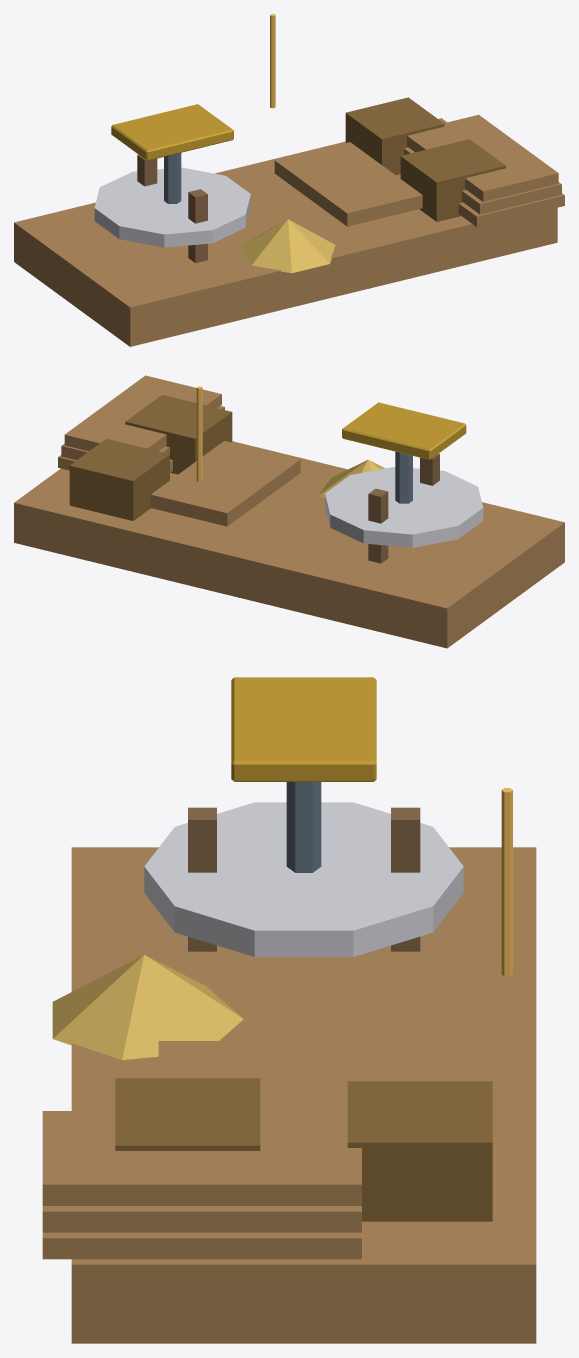
File: sawmill.glb
3 renders of one model, top to bottom at view 1: azimuth 30°, elevation 25°; view 2: azimuth 150°, elevation 25°; view 3: azimuth 270°, elevation 25°, orthographic. The views are drawn at different scales.
Visible parts, largest first — view 1: M_b0, M_b3, M_b1, M_b6, M_b7, M_b5, M_b2, Blade; view 2: M_b0, M_b3, M_b1, M_b6, M_b5, M_b2, Blade, M_b7; view 3: M_b0, M_b1, M_b3, M_b6, M_b7, M_b5, M_b2, Blade.
Boxes of the visible parts, <box> form: M_b0: <box>14,114,564,346</box>; M_b3: <box>345,97,505,221</box>; M_b1: <box>94,167,250,247</box>; M_b6: <box>111,104,233,160</box>; M_b7: <box>239,219,335,273</box>; M_b5: <box>137,154,207,262</box>; M_b2: <box>164,153,181,203</box>; Blade: <box>270,14,275,108</box>; M_b0: <box>14,375,564,648</box>; M_b3: <box>69,395,232,520</box>; M_b1: <box>325,466,483,547</box>; M_b6: <box>342,402,466,459</box>; M_b5: <box>368,453,439,563</box>; M_b2: <box>395,451,412,503</box>; Blade: <box>196,386,202,481</box>; M_b7: <box>318,459,385,499</box>; M_b0: <box>42,847,536,1343</box>; M_b1: <box>144,802,463,956</box>; M_b3: <box>115,1078,492,1221</box>; M_b6: <box>231,677,376,781</box>; M_b7: <box>52,954,243,1059</box>; M_b5: <box>188,807,420,951</box>; M_b2: <box>286,782,321,872</box>; Blade: <box>501,788,512,976</box>.
Bounding box in the file's own units: 3.4 × 1.45 × 1.7.
